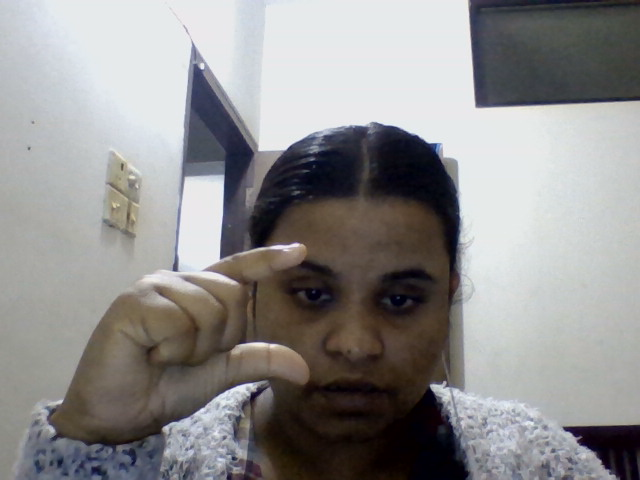No: (41, 235, 365, 420)
